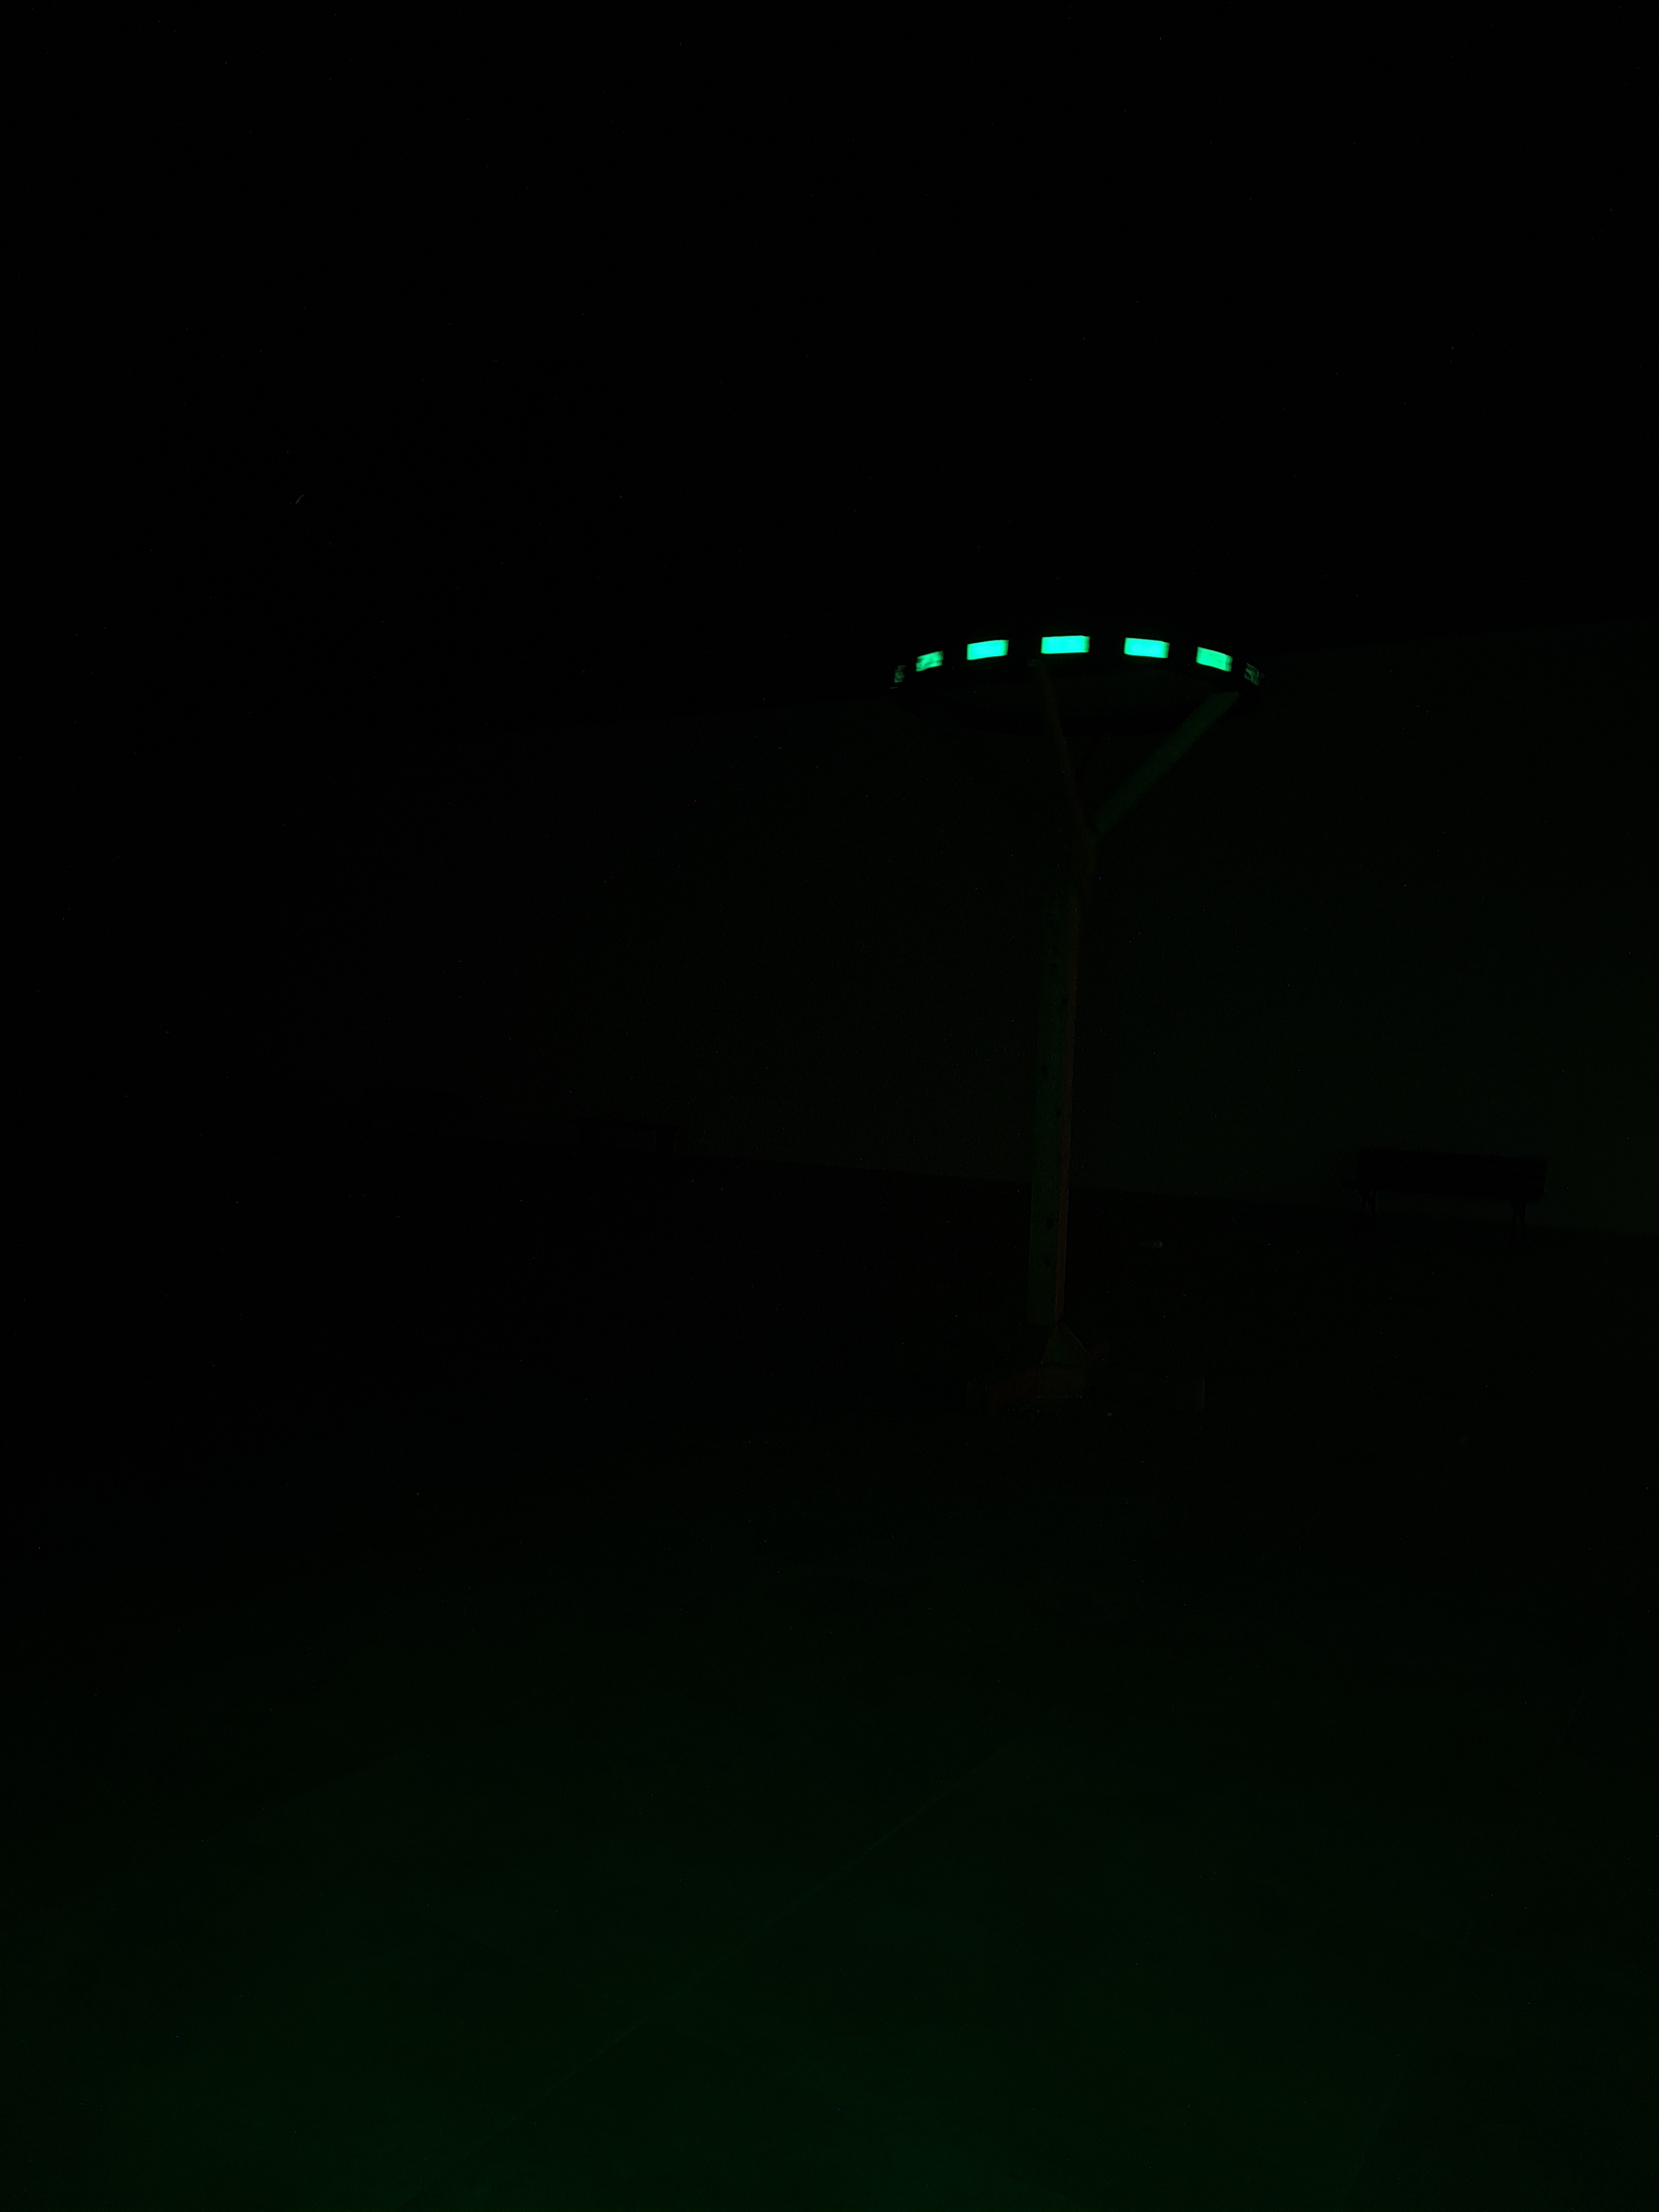hoop: (892, 631, 1263, 695)
